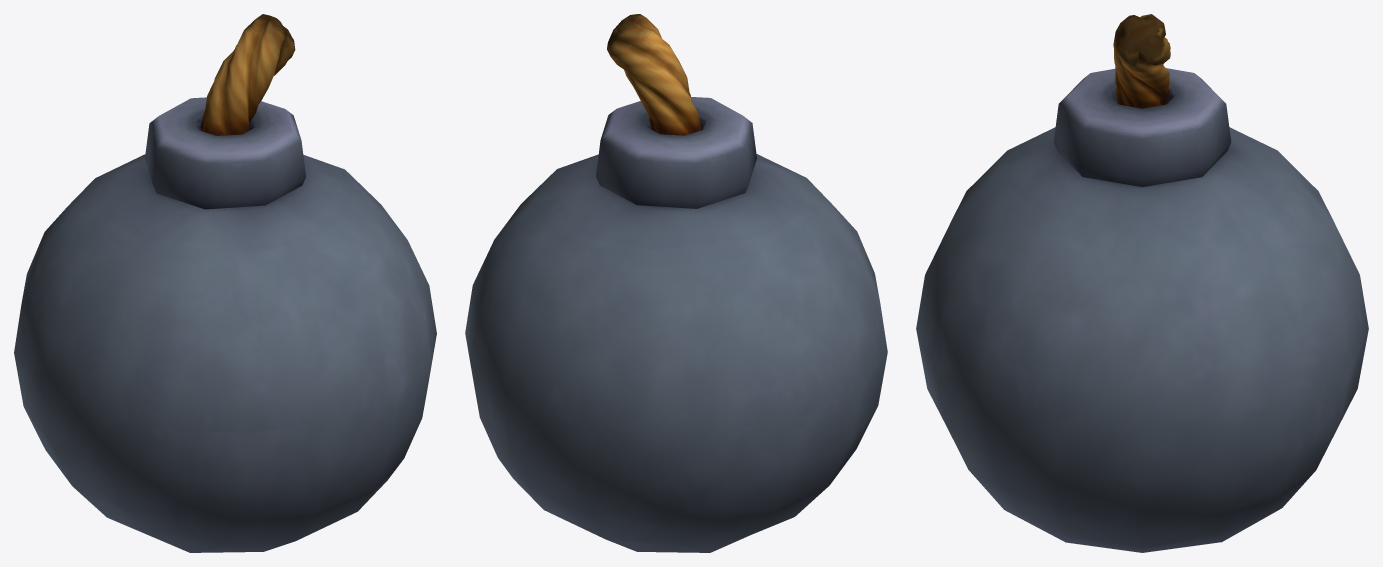
Rendered from bomb.fbx.
The picture shows the model from 3 angles, left to right: view 1: azimuth 30°, elevation 25°; view 2: azimuth 150°, elevation 25°; view 3: azimuth 270°, elevation 25°; orthographic projection. The views are drawn at different scales.
Parts seen in each view (by area): view 1: bomb; view 2: bomb; view 3: bomb.
Part boxes in pixels (x1,y1,x2,y2): bomb: (14, 14, 436, 552); bomb: (465, 14, 887, 552); bomb: (916, 14, 1368, 552).
Bounding box in the file's own units: 114 × 149 × 114.
Materials: 1 (1 with a texture image).
